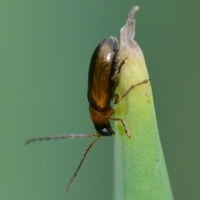insect: (25, 37, 149, 191)
